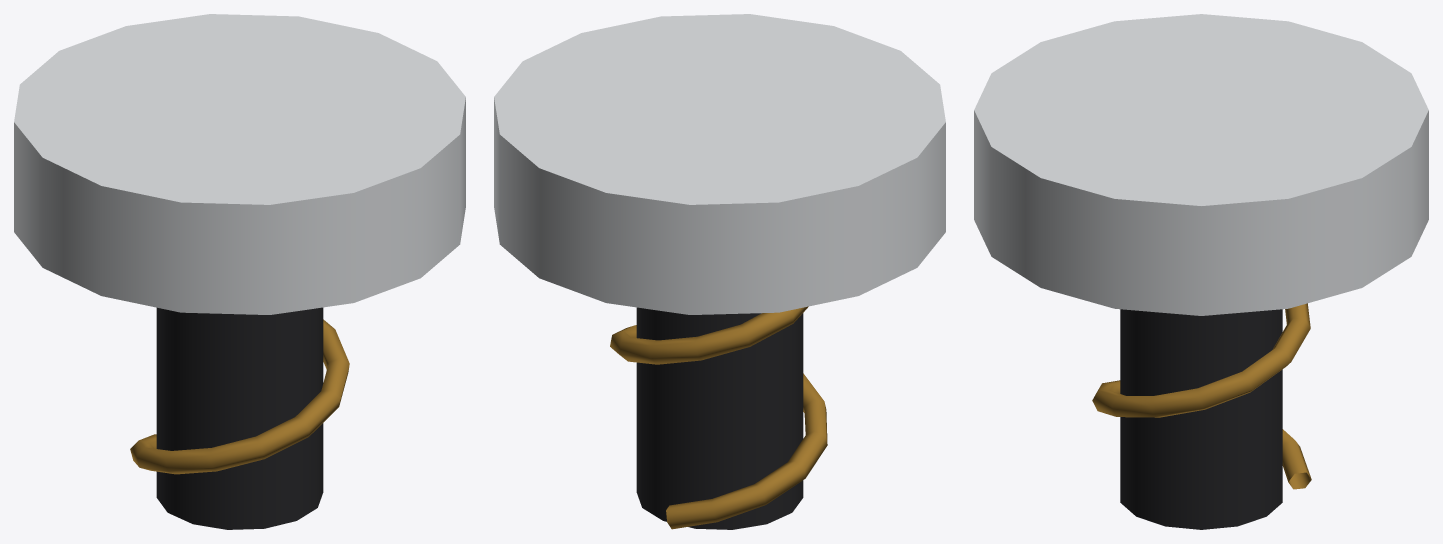
File: r1_mast.obj
3 views of the same model, side by side, from view 1: azimuth 30°, elevation 25°; view 2: azimuth 150°, elevation 25°; view 3: azimuth 270°, elevation 25° (orthographic).
Visible parts, largest first — view 1: r1_mast; view 2: r1_mast; view 3: r1_mast.
Part boxes in pixels (box(x1,y1,x2,y2)): r1_mast: box(14, 14, 465, 529); r1_mast: box(494, 14, 945, 529); r1_mast: box(974, 14, 1428, 529).
Bounding box in the file's own units: 0.3 × 0.28 × 0.3.
